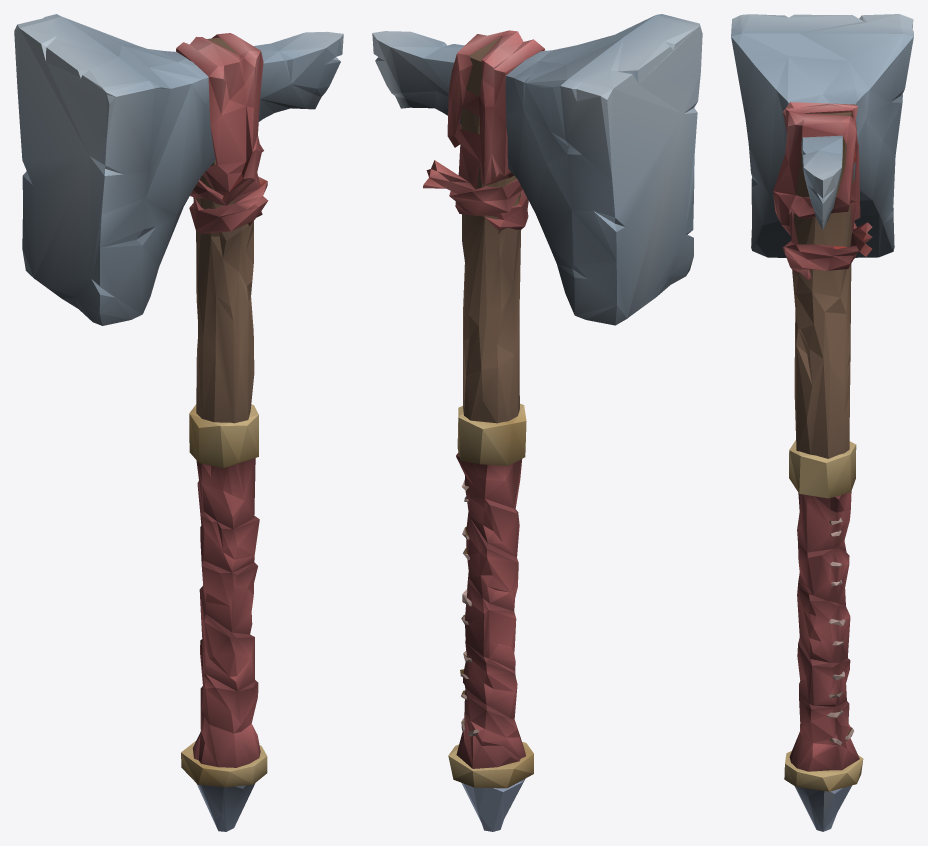
Rendered from epic_WhistlingHammer.fbx.
The picture shows the model from 3 angles, left to right: view 1: azimuth 30°, elevation 25°; view 2: azimuth 150°, elevation 25°; view 3: azimuth 270°, elevation 25°; orthographic projection. The views are drawn at different scales.
Visible parts, largest first — view 1: epic_WhistlingHammer_mesh; view 2: epic_WhistlingHammer_mesh; view 3: epic_WhistlingHammer_mesh.
Part boxes in pixels (x1=…): epic_WhistlingHammer_mesh: x1=14, y1=14, x2=343, y2=831; epic_WhistlingHammer_mesh: x1=372, y1=14, x2=702, y2=831; epic_WhistlingHammer_mesh: x1=731, y1=14, x2=913, y2=831.
Bounding box in the file's own units: 0.7217 × 1.97 × 0.4413.
